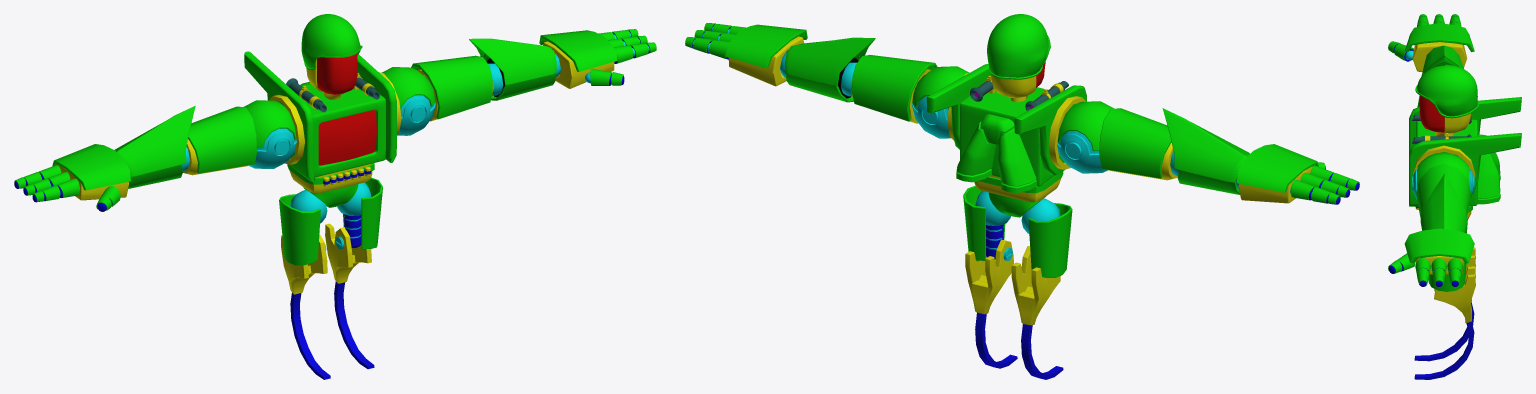
Rendered from MilitaryRobot.fbx.
3 views of the same model, side by side, from view 1: azimuth 30°, elevation 25°; view 2: azimuth 150°, elevation 25°; view 3: azimuth 270°, elevation 25° (orthographic). The views are drawn at different scales.
Visible parts, largest first — view 1: MilitaryRobot; view 2: MilitaryRobot; view 3: MilitaryRobot.
Part boxes in pixels (x1,y1,x2,y2): MilitaryRobot: [14, 14, 656, 379]; MilitaryRobot: [685, 14, 1359, 379]; MilitaryRobot: [1388, 14, 1521, 379].
Size of the model in its own units: 498 by 263 by 106.
